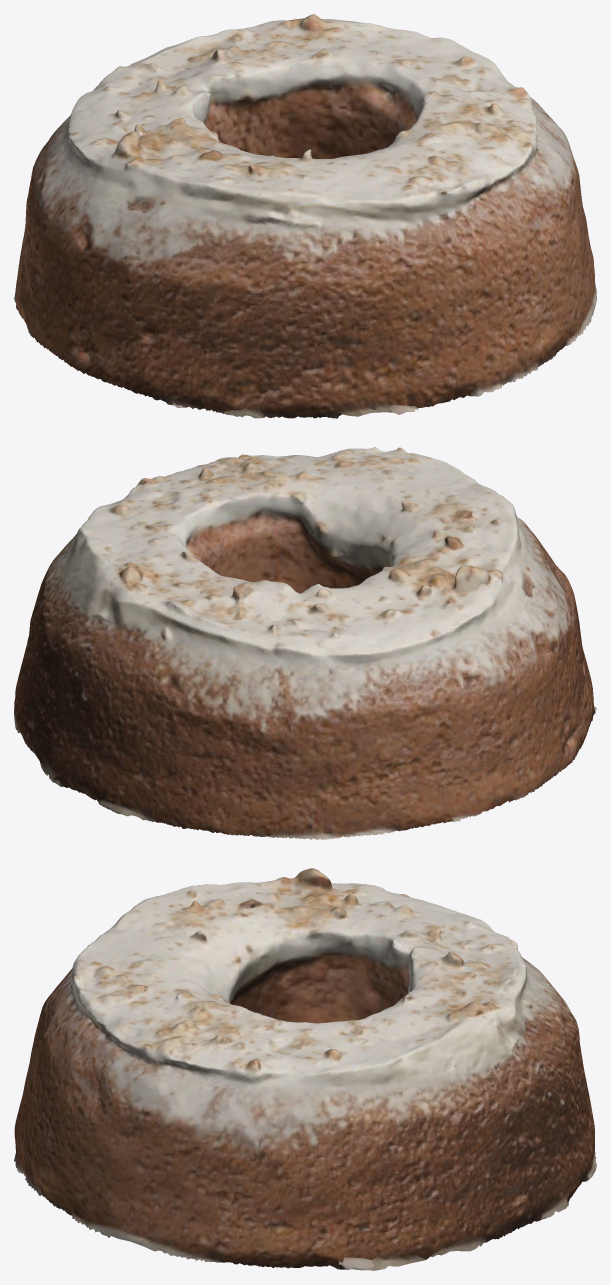
File: torta-de-zanahoria-3d.glb
The picture shows the model from 3 angles, top to bottom: view 1: azimuth 30°, elevation 25°; view 2: azimuth 150°, elevation 25°; view 3: azimuth 270°, elevation 25°; orthographic projection.
Parts seen in each view (by area): view 1: plato; view 2: plato; view 3: plato.
Boxes of the visible parts, x1,y1,x2,y2 form: plato: (14,14,596,418); plato: (14,447,596,839); plato: (14,868,596,1270).
Size of the model in its own units: 0.2239 by 0.0841 by 0.225.
Materials: 1 (1 with a texture image).
